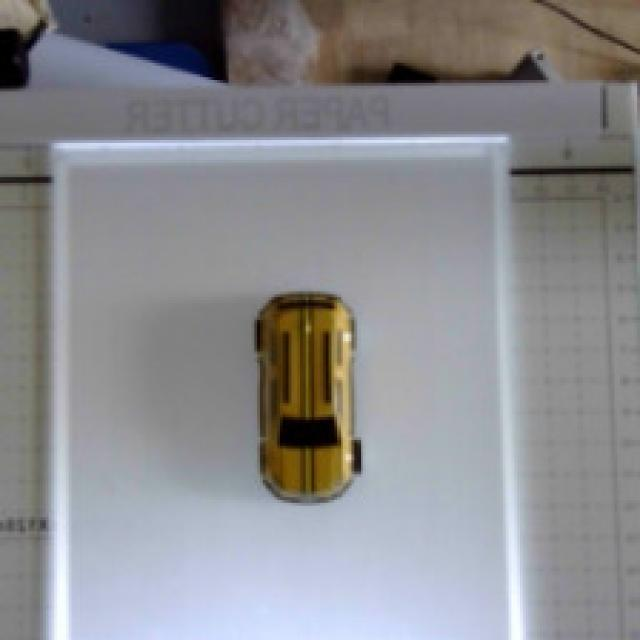Yellow Car: (210, 262, 403, 534)
